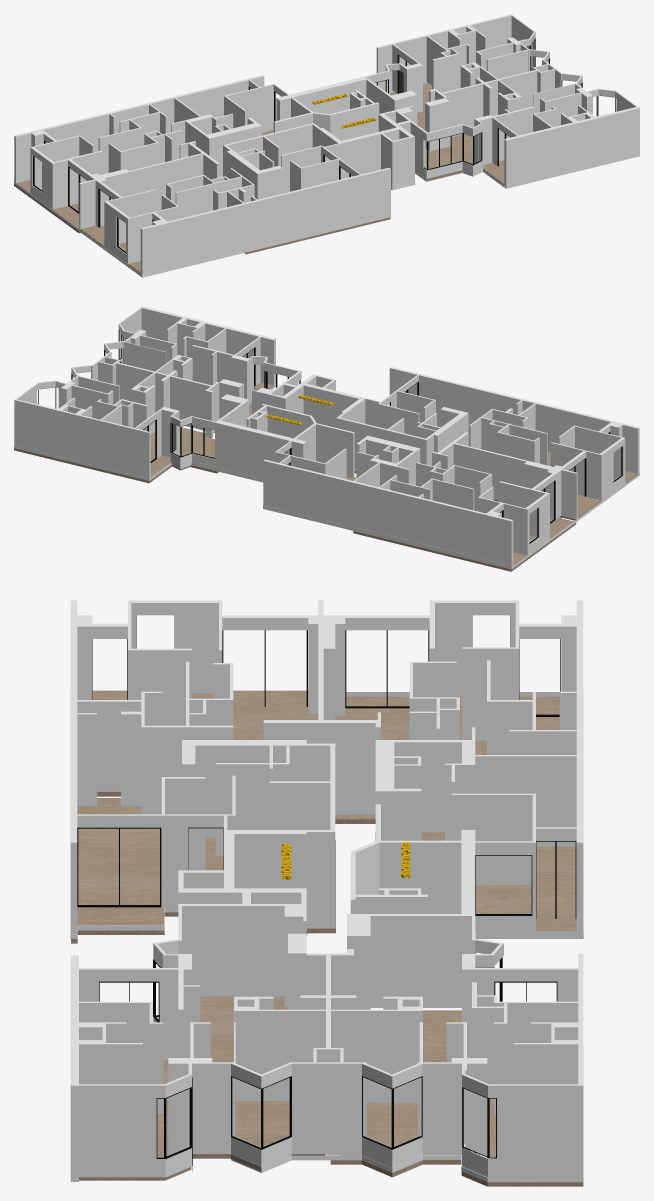
Rendered from planta-7.glb.
3 views of the same model, one above another, from view 1: azimuth 30°, elevation 25°; view 2: azimuth 150°, elevation 25°; view 3: azimuth 270°, elevation 25° (orthographic). The views are drawn at different scales.
Parts seen in each view (by area): view 1: Component_624.003, Component_624.013, Component_624.006, tipo-21, tipo-3, tipo-2, tipo-1; view 2: Component_624.003, Component_624.013, tipo-16, Component_624.006, tipo-3, tipo-2; view 3: Component_624.003, Component_624.013, tipo-1, Component_624.006, tipo-21, tipo-4, tipo-16, tipo-3, tipo-2.
Part boxes in pixels (x1,y1,x2,y2): Component_624.003: (14,15,639,277); Component_624.013: (14,14,594,264); Component_624.006: (33,38,616,253); tipo-21: (425,134,504,184); tipo-3: (14,180,80,233); tipo-2: (80,209,161,273); tipo-1: (245,217,390,254); Component_624.003: (14,306,639,569); Component_624.013: (14,318,622,521); tipo-16: (14,427,218,483); Component_624.006: (38,330,622,543); tipo-3: (353,517,576,571); tipo-2: (493,452,637,520); Component_624.003: (70,600,583,1182); Component_624.013: (79,600,583,1113); tipo-1: (71,798,335,943); Component_624.006: (77,615,576,1165); tipo-21: (79,996,324,1180); tipo-4: (375,832,576,930); tipo-16: (330,1010,583,1186); tipo-3: (335,696,559,823); tipo-2: (92,690,318,796).
Size of what is drawn, in the model's own units: 34.07 by 3.52 by 15.23.
10 materials, 8 textured.
